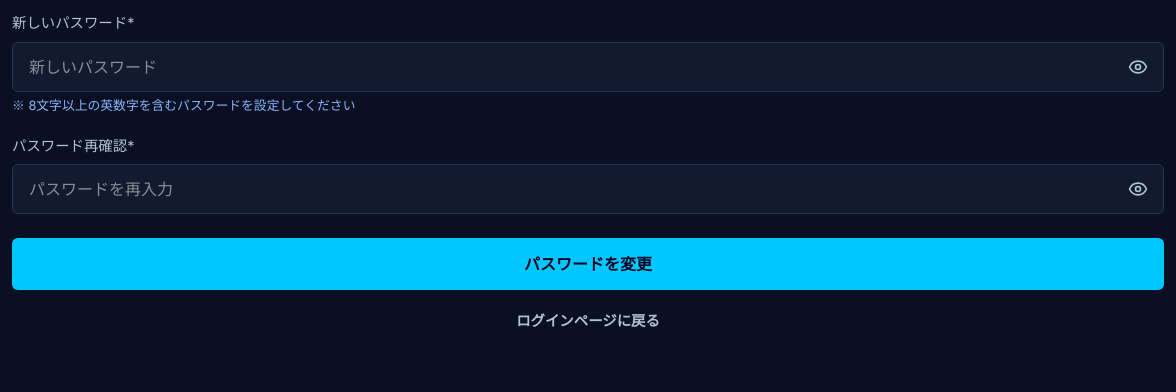
it: PasswordResetForm › Form Validation › should show validation error for short password
Type "123" into the password field labelled "新しいパスワード*" at (588, 67), box [12,42,1164,92]
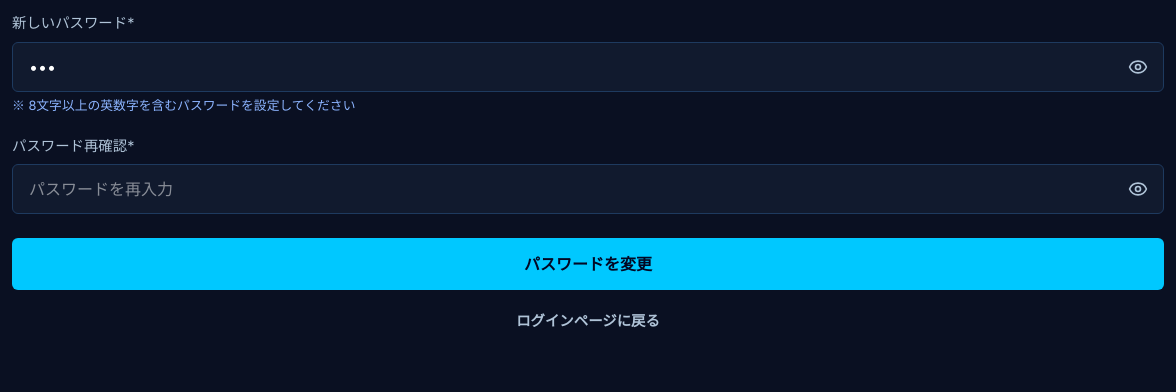
Click the button "パスワードを変更" at (588, 264), box [12,238,1164,290]
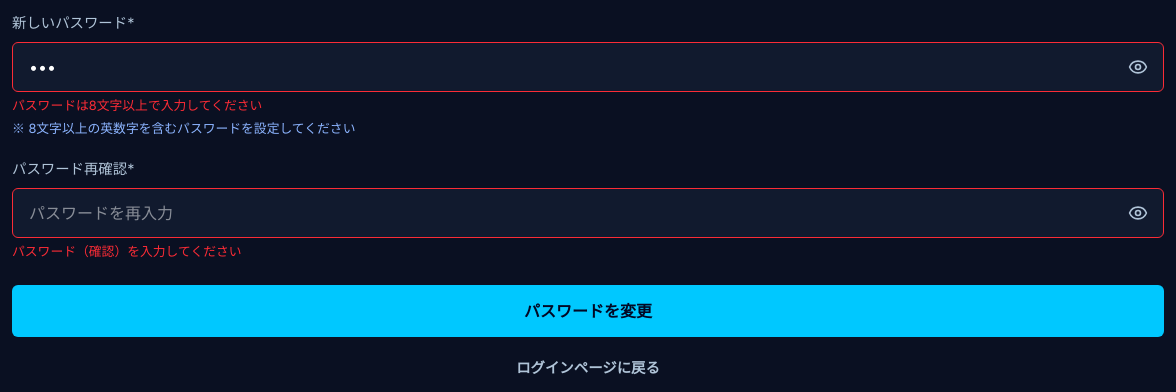
expect the text "パスワードは8文字以上で入力してください" is shown: met, box [12,98,262,113]
